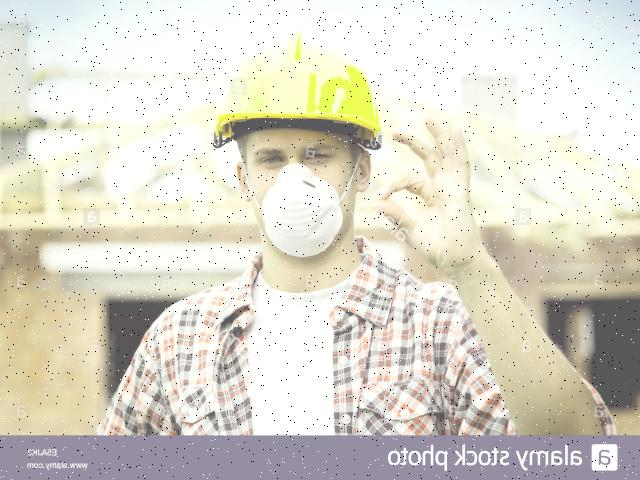Helmet: (204, 27, 390, 170)
